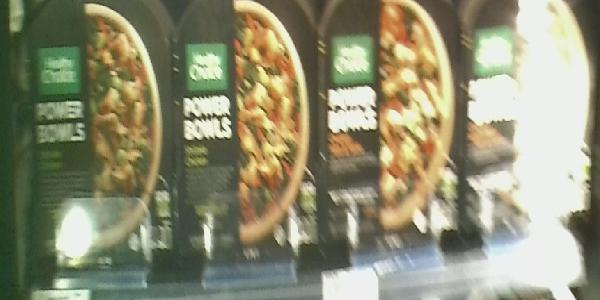pizza1: (11, 1, 183, 262), (169, 1, 323, 267), (316, 1, 462, 254), (465, 1, 591, 248)
